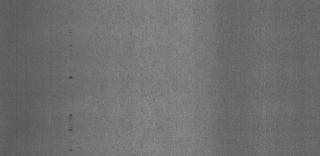oil spot: (66, 112, 76, 134), (68, 41, 74, 61), (66, 144, 74, 154), (68, 27, 74, 35), (68, 72, 72, 80)
